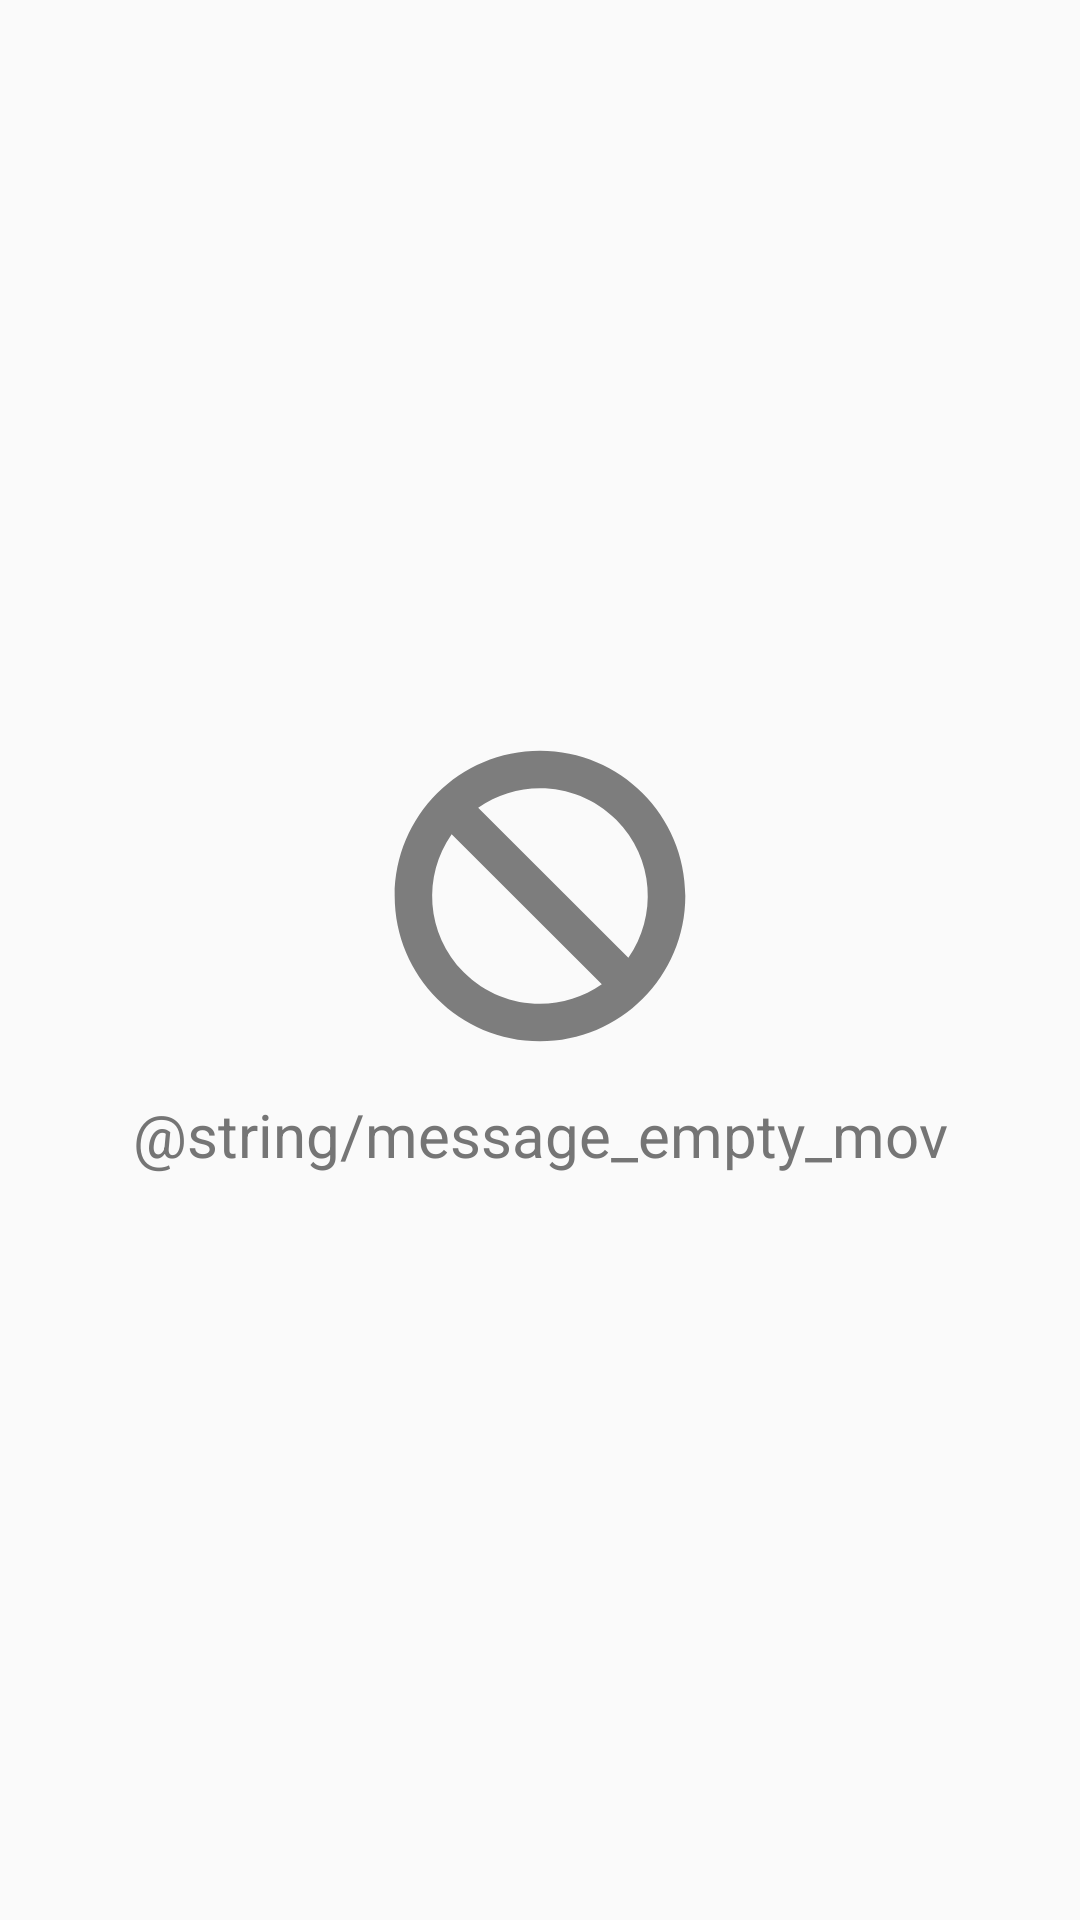

Screen size 1080*1920. Icon name, then its center in pixels as point (x, y):
ban: point (540, 896)
